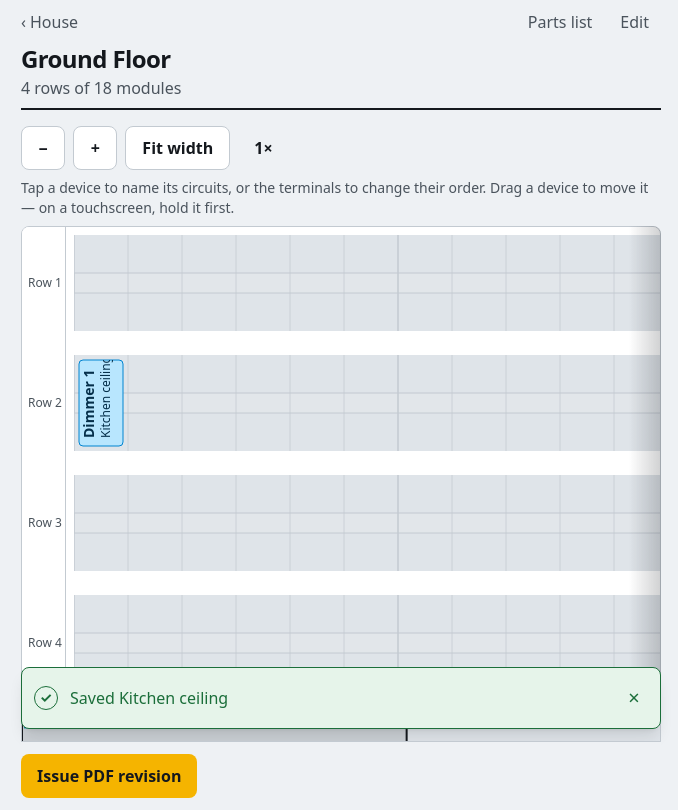
Test case: PanelPage › says when the devices are too small to tap, so Fit width is honest about what it shows
The width and height of the screenshot is (678, 810).
Expected: the button "dimmer 1" is shown, [79,356,114,438]
Expected: the text "Tap a device to name its circuits" is shown, [21,178,648,217]
What coordinates should you click on to do the following:
click the button named "Zoom out"
I would click on:
 (43, 148)
Its box is [21,126,65,170].
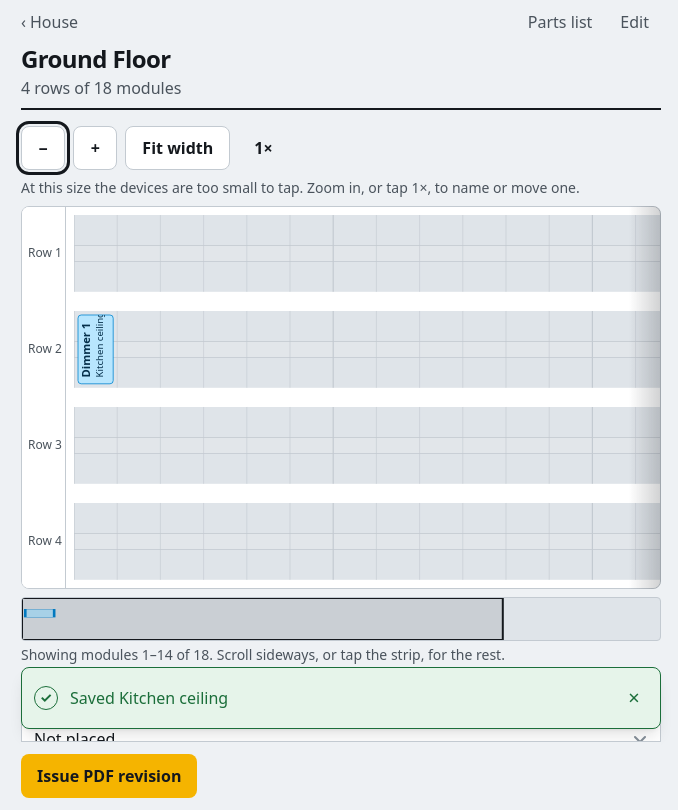
What coordinates should you click on to do the following:
click the button named "Zoom out"
I would click on:
 (43, 148)
Its box is [21,126,65,170].
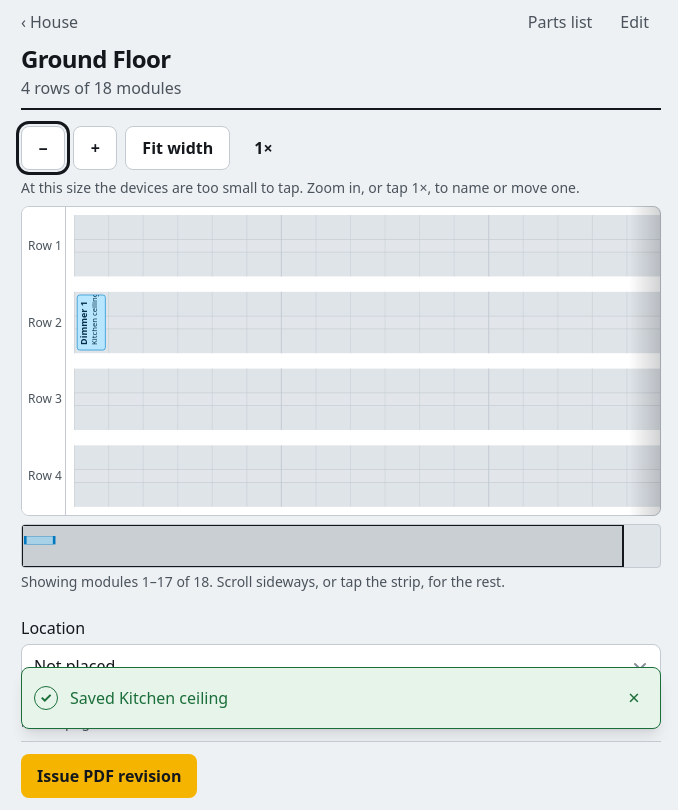
What coordinates should you click on to do the following:
click the button named "Zoom out"
I would click on:
 (43, 148)
Its box is [21,126,65,170].
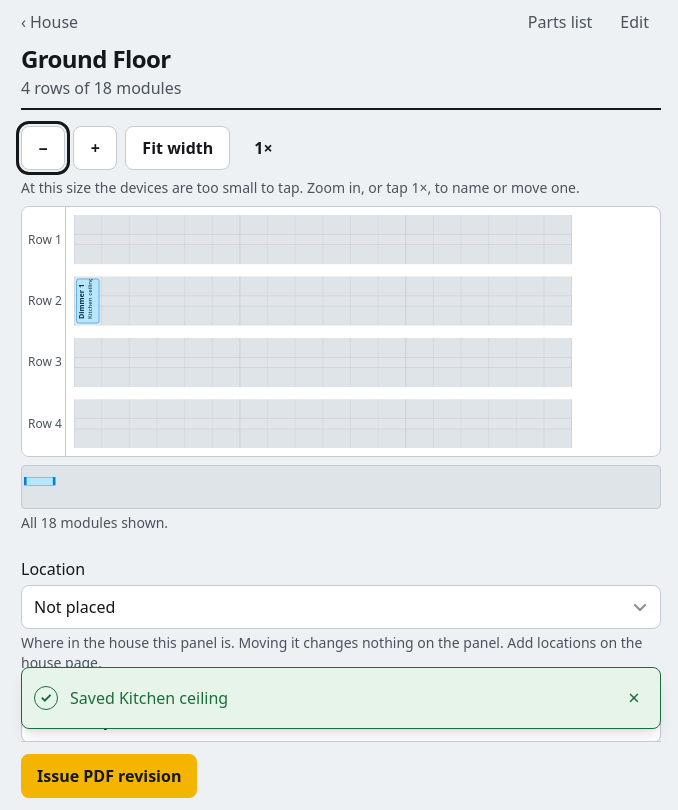
What coordinates should you click on to do the following:
click the button named "Zoom out"
I would click on:
 (43, 148)
Its box is [21,126,65,170].
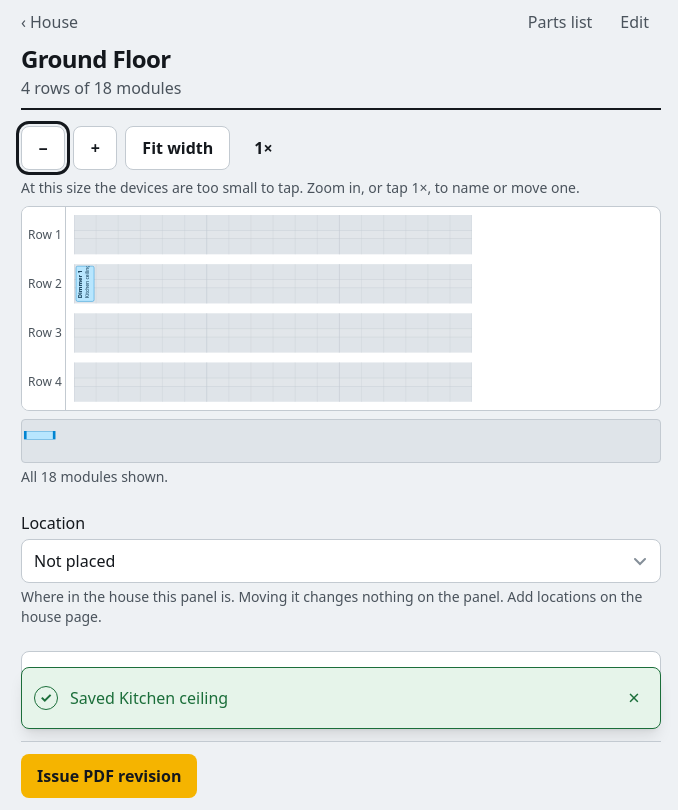
Now the text "too small to tap" is shown, box [21,178,580,197]
What coordinates should you click on to do the following:
click the button "1×"
I would click on:
 (263, 148)
Its box is [238,126,289,170].
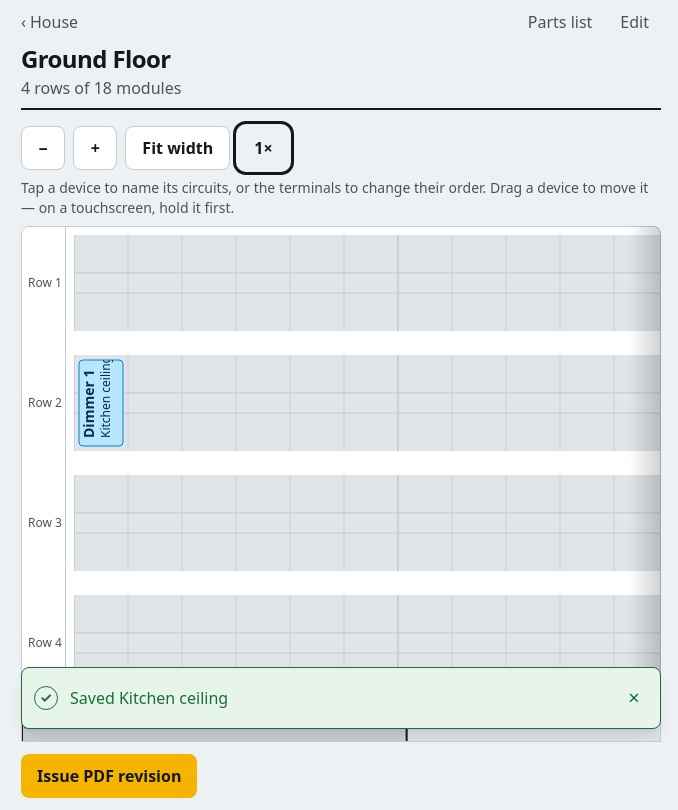
Now the text "Tap a device to name its circuits" is shown, box [21,178,648,217]
